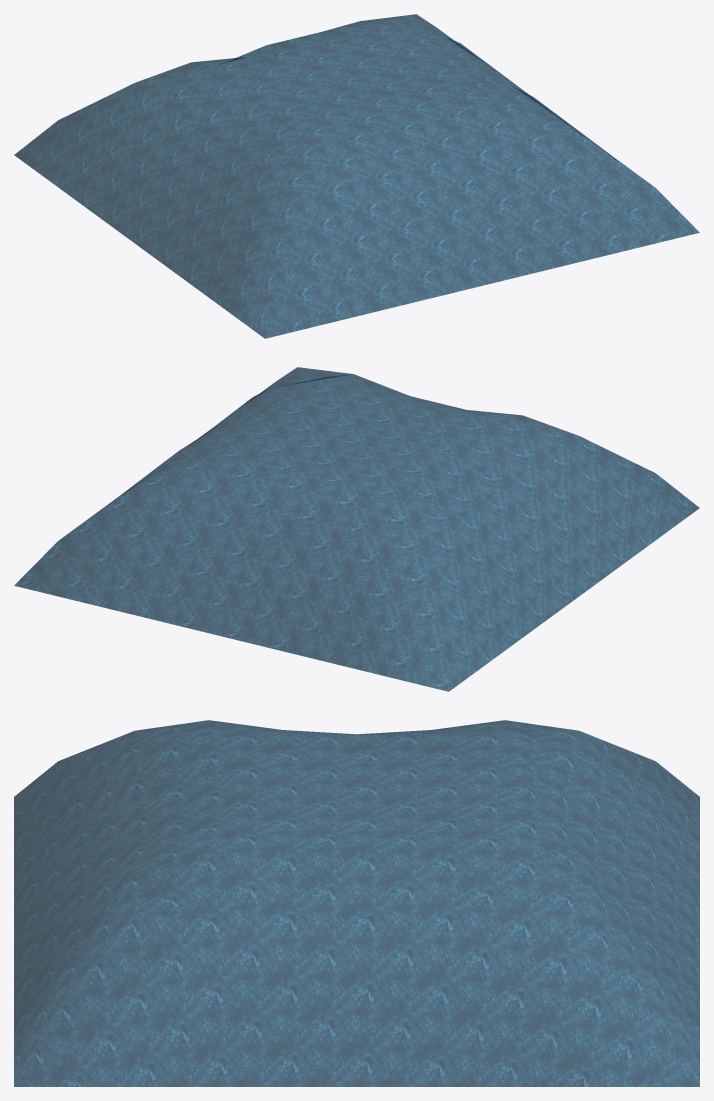
Rendered from sea-surface.glb.
3 views of the same model, one above another, from view 1: azimuth 30°, elevation 25°; view 2: azimuth 150°, elevation 25°; view 3: azimuth 270°, elevation 25° (orthographic). The views are drawn at different scales.
Visible parts, largest first — view 1: water_dark-transp-subsea.png__; view 2: water_dark-transp-subsea.png__; view 3: water_dark-transp-subsea.png__.
Part boxes in pixels (x1,y1,x2,y2): water_dark-transp-subsea.png__: (14, 14, 699, 338); water_dark-transp-subsea.png__: (14, 367, 699, 691); water_dark-transp-subsea.png__: (14, 720, 699, 1086).
Size of the model in its own units: 2117 by 509 by 2117.
1 material, 1 textured.
